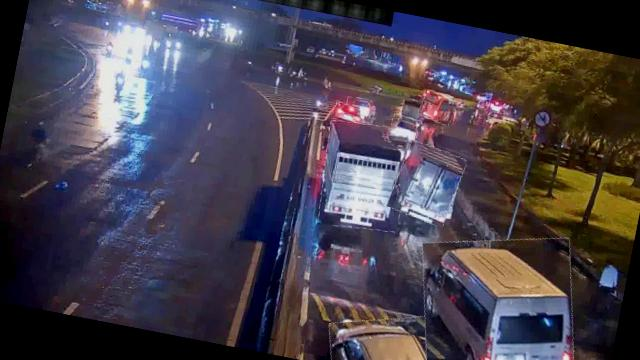Bike: (107, 68, 127, 96)
Bus: (403, 219, 593, 360), (418, 90, 458, 124)
Car: (323, 303, 438, 360), (388, 114, 420, 146), (332, 102, 366, 127), (344, 96, 378, 120)
Truck: (312, 116, 414, 236), (388, 140, 466, 227)
